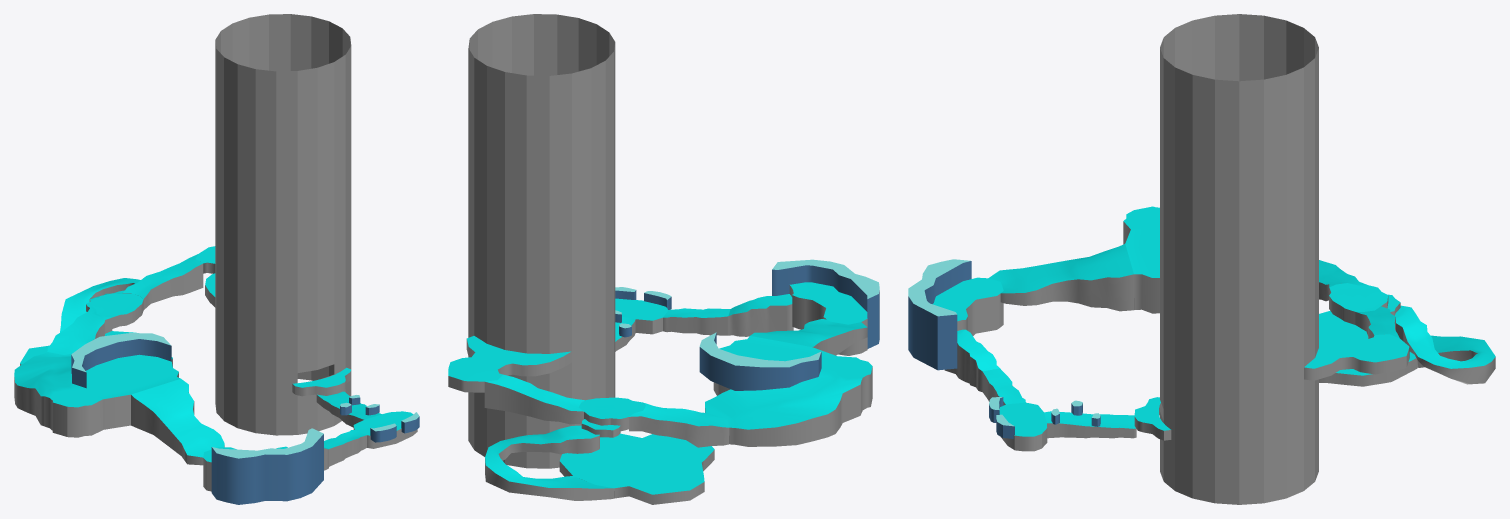
The model's file is Inverno_SemArte_2.0_Colorido.fbx.
The picture shows the model from 3 angles, left to right: view 1: azimuth 30°, elevation 25°; view 2: azimuth 150°, elevation 25°; view 3: azimuth 270°, elevation 25°; orthographic projection. The views are drawn at different scales.
Visible parts, largest first — view 1: polySurface710, pCube12, pCube16, pCube13, pCube14, pCube15, pCube20, pCube17, pCube23, pCube3, pCube1, pCube9 (+4 smaller); view 2: polySurface710, pCube16, pCube22, pCube23, pCube15, pCube21, pCube12, pCube20, pCube17, pCube11, pCube10, pCube13 (+5 smaller); view 3: polySurface710, pCube13, pCube12, pCube23, pCube21, pCube11, pCube14, pCube2, pCube22, pCube3, pCube10, pCube9 (+6 smaller).
Boxes of the visible parts, <box> form: polySurface710: <box>215,14,351,435</box>; pCube12: <box>211,428,323,504</box>; pCube16: <box>14,352,102,437</box>; pCube13: <box>131,379,224,465</box>; pCube14: <box>86,354,180,429</box>; pCube15: <box>71,333,171,388</box>; pCube20: <box>123,254,203,309</box>; pCube17: <box>47,306,112,354</box>; pCube23: <box>60,278,140,332</box>; pCube3: <box>353,411,417,448</box>; pCube1: <box>292,367,351,396</box>; pCube9: <box>324,430,366,466</box>; polySurface710: <box>468,14,615,468</box>; pCube16: <box>705,356,872,446</box>; pCube22: <box>559,433,714,504</box>; pCube23: <box>485,425,614,500</box>; pCube15: <box>699,332,821,390</box>; pCube21: <box>448,336,571,392</box>; pCube12: <box>772,259,879,348</box>; pCube20: <box>484,374,584,424</box>; pCube17: <box>629,402,729,447</box>; pCube11: <box>789,282,867,355</box>; pCube10: <box>728,294,793,336</box>; pCube13: <box>750,319,867,355</box>; polySurface710: <box>1160,14,1318,504</box>; pCube13: <box>988,244,1133,311</box>; pCube12: <box>908,259,971,370</box>; pCube23: <box>1395,305,1495,384</box>; pCube21: <box>1304,323,1409,380</box>; pCube11: <box>932,277,1003,335</box>; pCube14: <box>1125,227,1159,313</box>; pCube2: <box>1044,411,1136,438</box>; pCube22: <box>1319,311,1417,386</box>; pCube3: <box>999,402,1047,451</box>; pCube10: <box>944,329,999,391</box>; pCube9: <box>982,368,1025,405</box>.
Bounding box in the file's own units: 33050 × 35033 × 44032.
